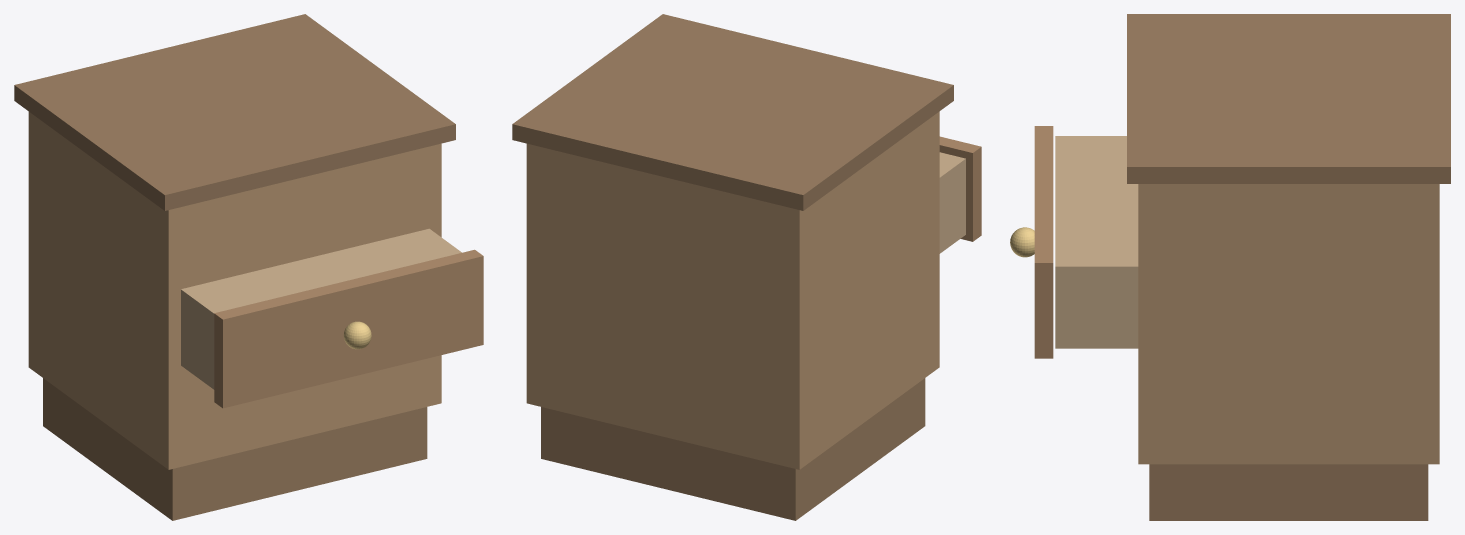
Rendered from container_drawer_bedside.glb.
The picture shows the model from 3 angles, left to right: view 1: azimuth 30°, elevation 25°; view 2: azimuth 150°, elevation 25°; view 3: azimuth 270°, elevation 25°; orthographic projection. The views are drawn at different scales.
Visible parts, largest first — view 1: Drawer_Body, Drawer_Top, Drawer_Front, Drawer_Base, Drawer_Box, Drawer_Knob; view 2: Drawer_Body, Drawer_Top, Drawer_Base, Drawer_Box, Drawer_Front; view 3: Drawer_Body, Drawer_Top, Drawer_Box, Drawer_Base, Drawer_Front, Drawer_Knob.
Boxes of the visible parts, x1,y1,x2,y2 form: Drawer_Body: [28, 111, 441, 469]; Drawer_Top: [14, 14, 455, 210]; Drawer_Front: [214, 249, 483, 408]; Drawer_Base: [43, 378, 427, 520]; Drawer_Box: [181, 228, 461, 389]; Drawer_Knob: [343, 321, 371, 349]; Drawer_Body: [526, 111, 939, 469]; Drawer_Top: [512, 14, 953, 210]; Drawer_Base: [541, 378, 925, 520]; Drawer_Box: [939, 152, 965, 253]; Drawer_Front: [939, 136, 981, 241]; Drawer_Body: [1138, 184, 1439, 464]; Drawer_Top: [1127, 14, 1450, 183]; Drawer_Box: [1055, 136, 1138, 348]; Drawer_Base: [1149, 464, 1428, 520]; Drawer_Front: [1034, 126, 1053, 358]; Drawer_Knob: [1010, 227, 1034, 257].
Size of the model in its own units: 0.48 by 0.5325 by 0.585.
